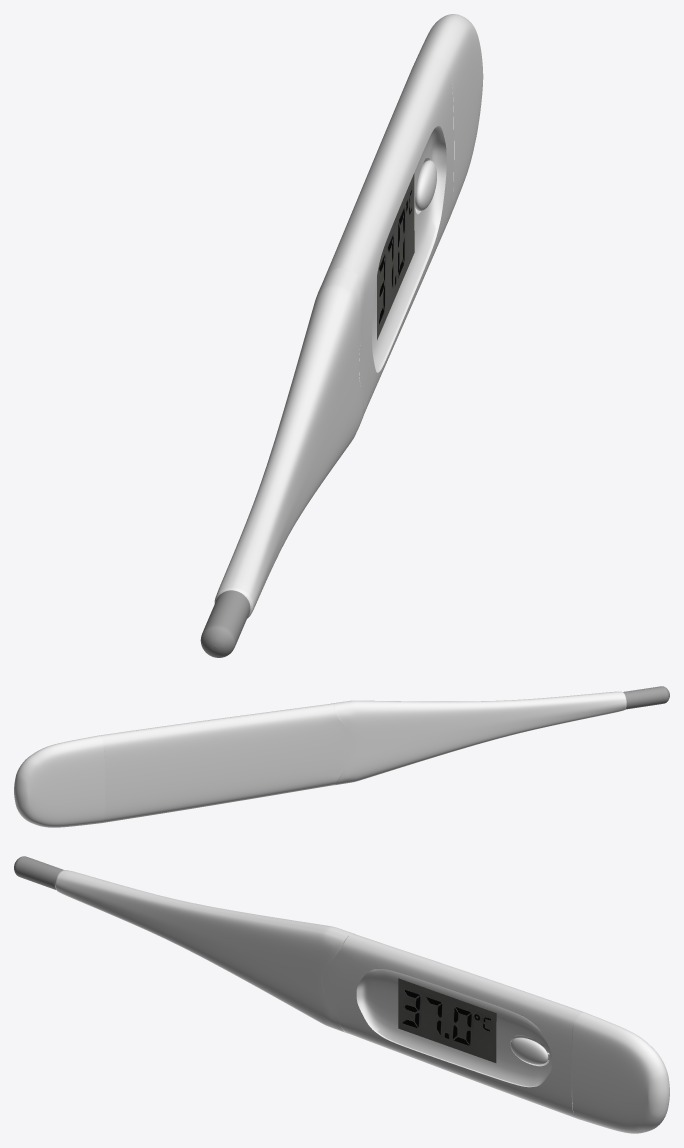
File: thermometer.gltf
The picture shows the model from 3 angles, top to bottom: view 1: azimuth 30°, elevation 25°; view 2: azimuth 150°, elevation 25°; view 3: azimuth 270°, elevation 25°; orthographic projection. The views are drawn at different scales.
Parts seen in each view (by area): view 1: Flexible, Handle, Bottom, Screen, Tip; view 2: Handle, Flexible, Bottom, Tip; view 3: Handle, Flexible, Bottom, Screen, Tip, Button.
Part boxes in pixels (x1,y1,x2,y2): Flexible: (214, 268, 364, 618); Handle: (324, 54, 453, 414); Bottom: (414, 14, 483, 214); Screen: (377, 173, 414, 339); Tip: (200, 590, 250, 657); Handle: (99, 703, 356, 823); Flexible: (331, 691, 626, 785); Bottom: (14, 735, 105, 827); Tip: (623, 686, 669, 709); Handle: (321, 933, 583, 1118); Flexible: (54, 870, 354, 1033); Bottom: (572, 1012, 669, 1133); Screen: (398, 978, 496, 1062); Tip: (14, 856, 64, 889); Button: (510, 1037, 548, 1064).
Bounding box in the file's own units: 2.26 × 0.4723 × 2.64.
5 materials, 1 textured.
